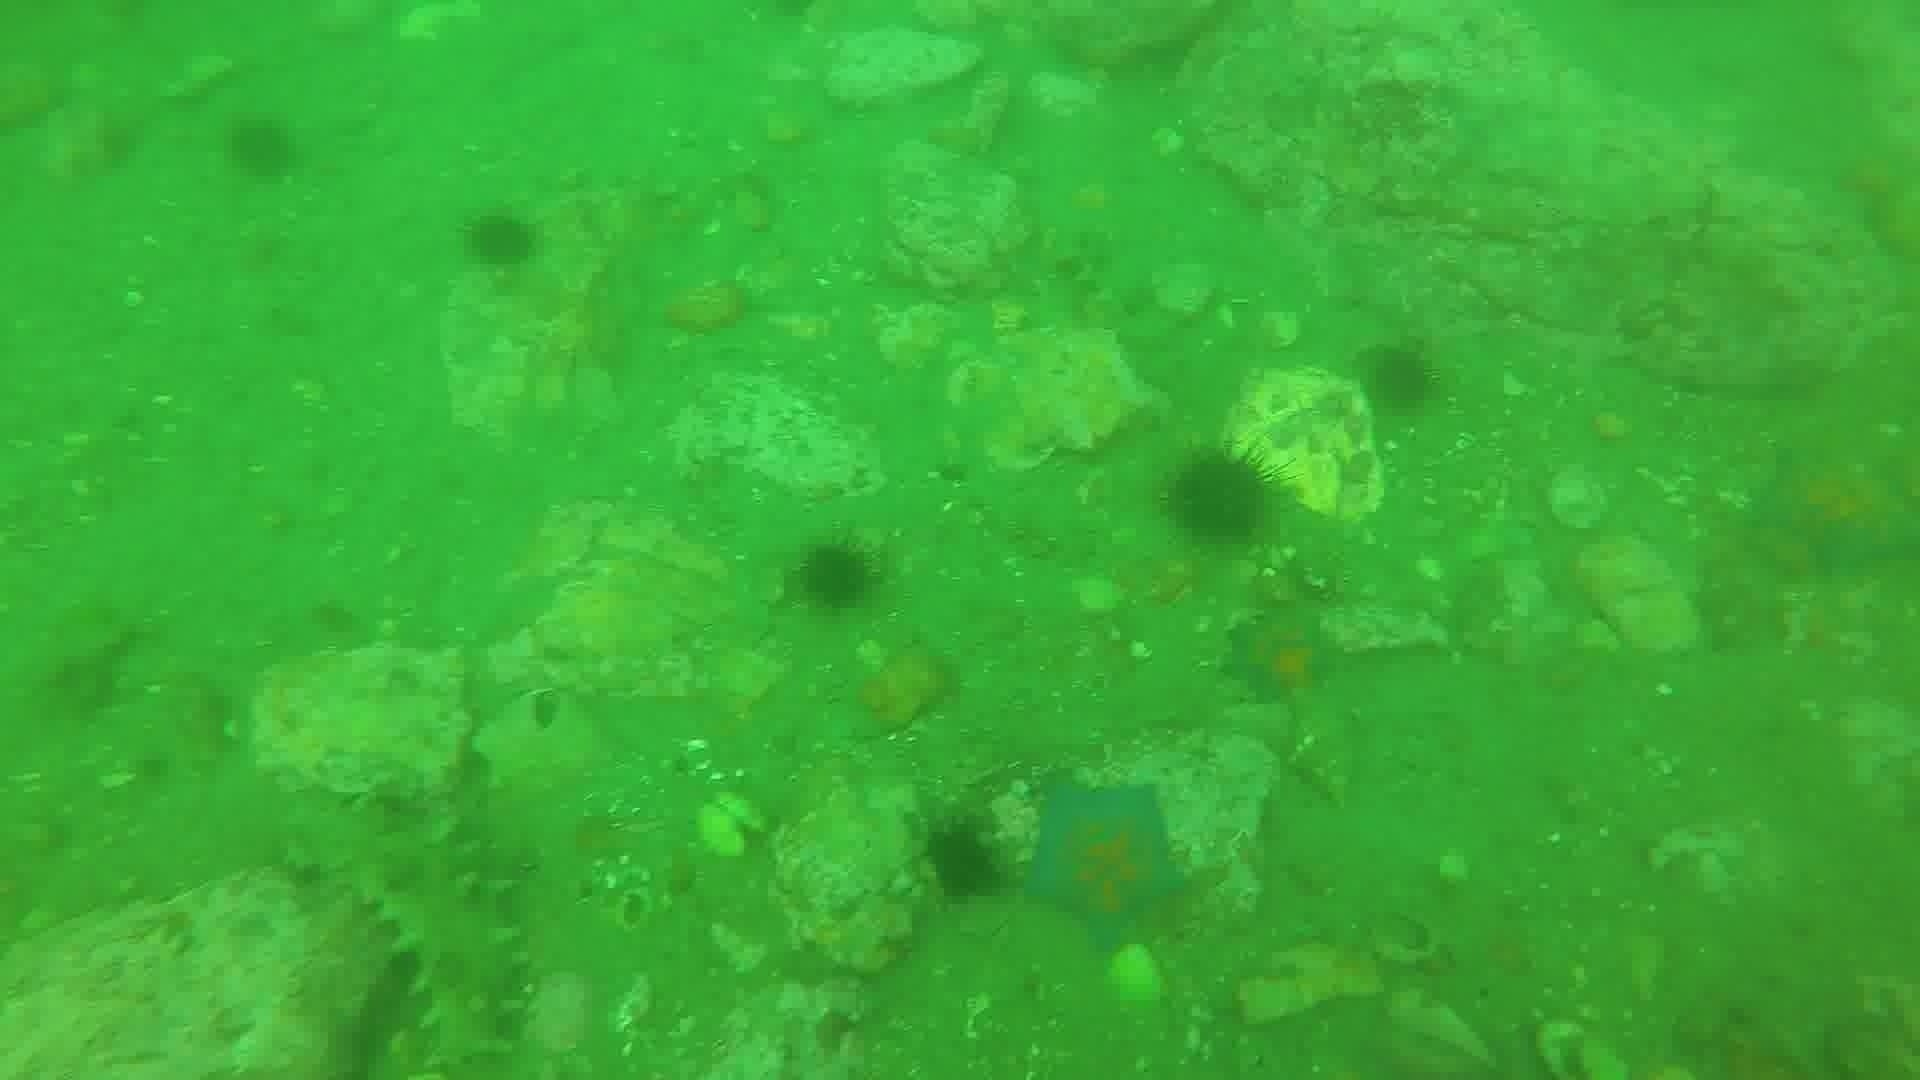echinus: (1159, 442, 1282, 551), (915, 816, 1006, 906), (1353, 339, 1443, 419), (790, 535, 881, 615), (222, 112, 303, 186), (460, 206, 543, 276)
holothurian: (290, 795, 531, 1071)
starfish: (1018, 775, 1195, 955), (1745, 444, 1916, 583), (1218, 607, 1342, 709)
